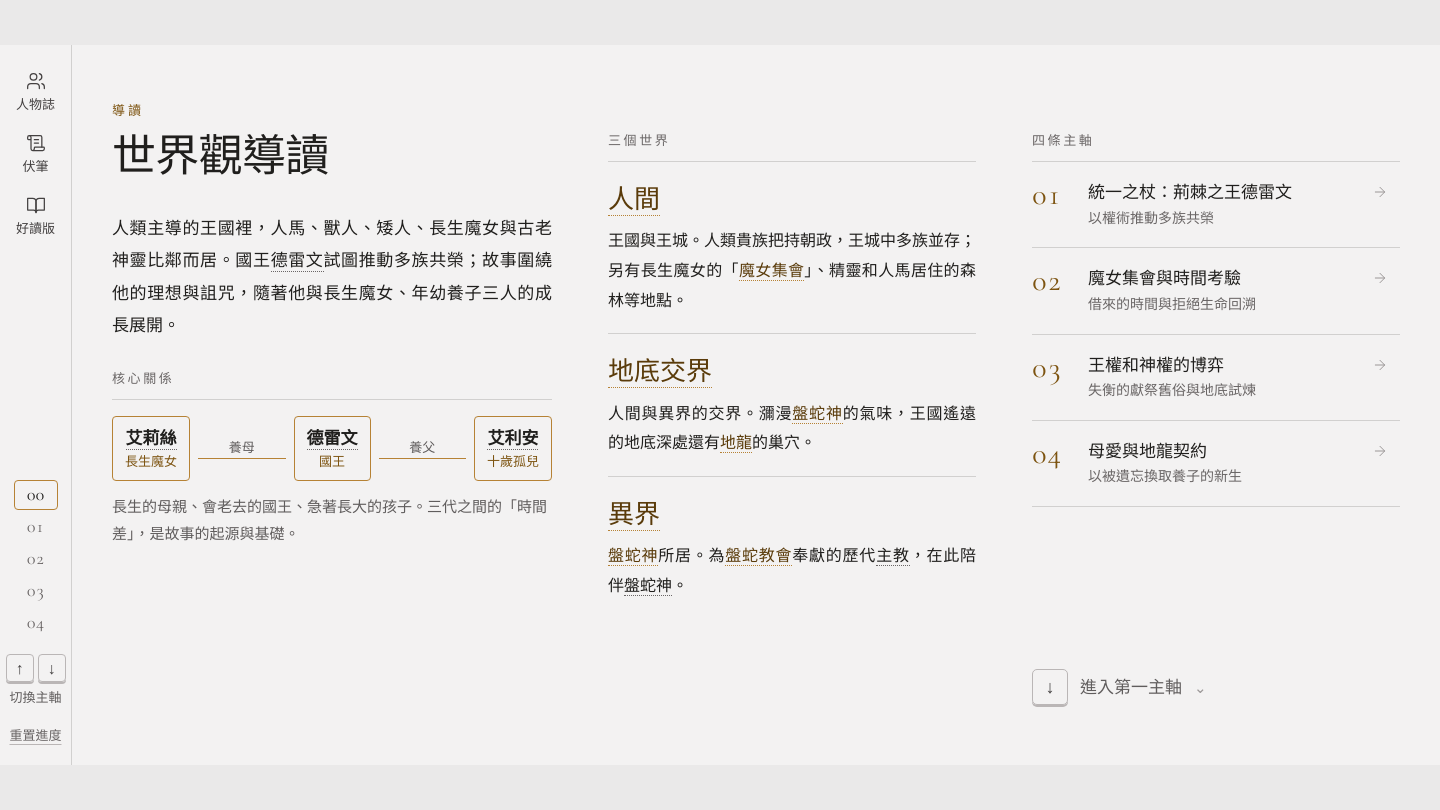
Test: PopoverLayer（舞台版） › 00 頁的人名也能開 Popover（進度 00）
Click the button "德雷文" below "人類主導的王國裡，人馬、獸人、矮人、長生魔女與古老神靈比鄰而居。國王".
click(297, 261)  # box [271,249,324,272]
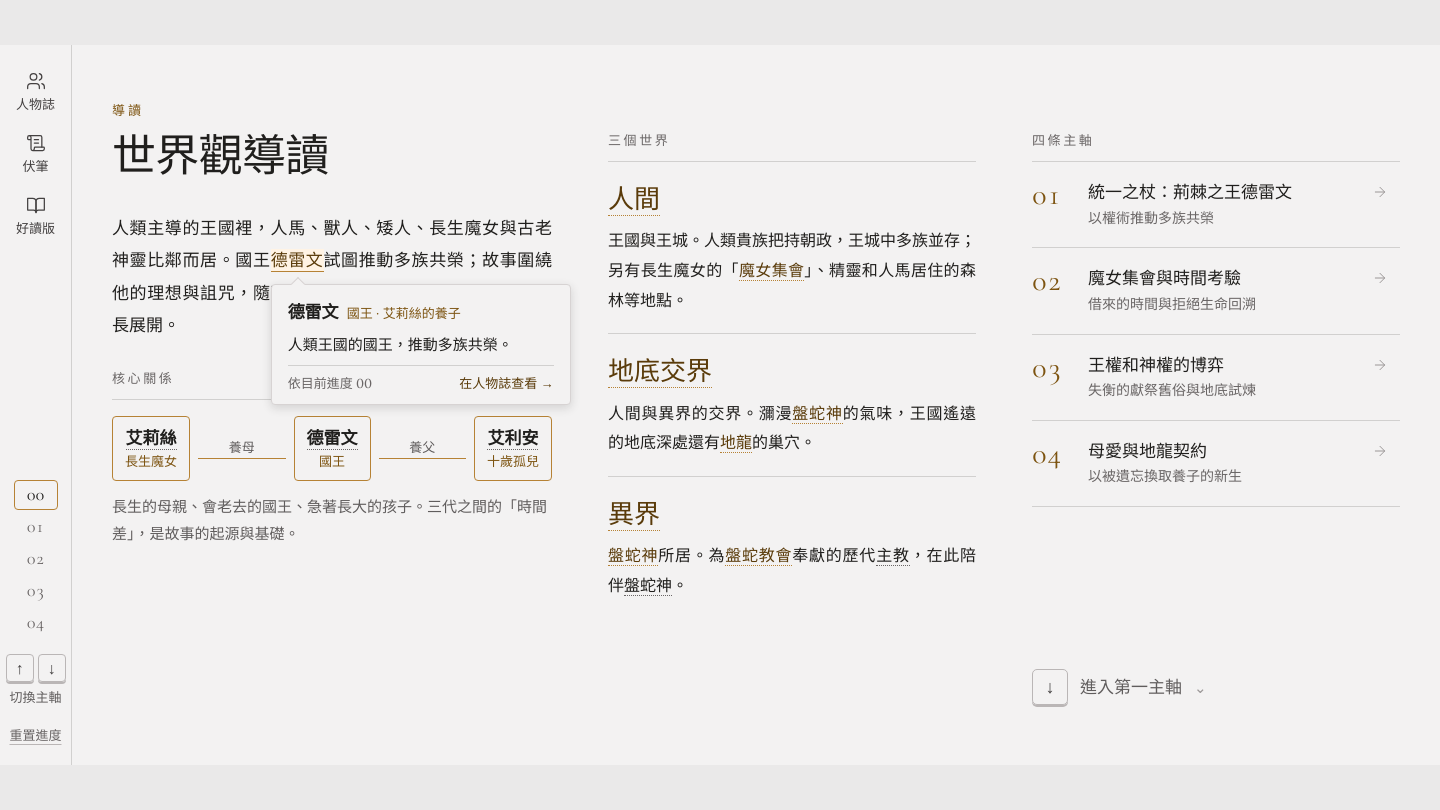
Expected: the dialog shows "依目前進度 00", [288,375,372,392]
